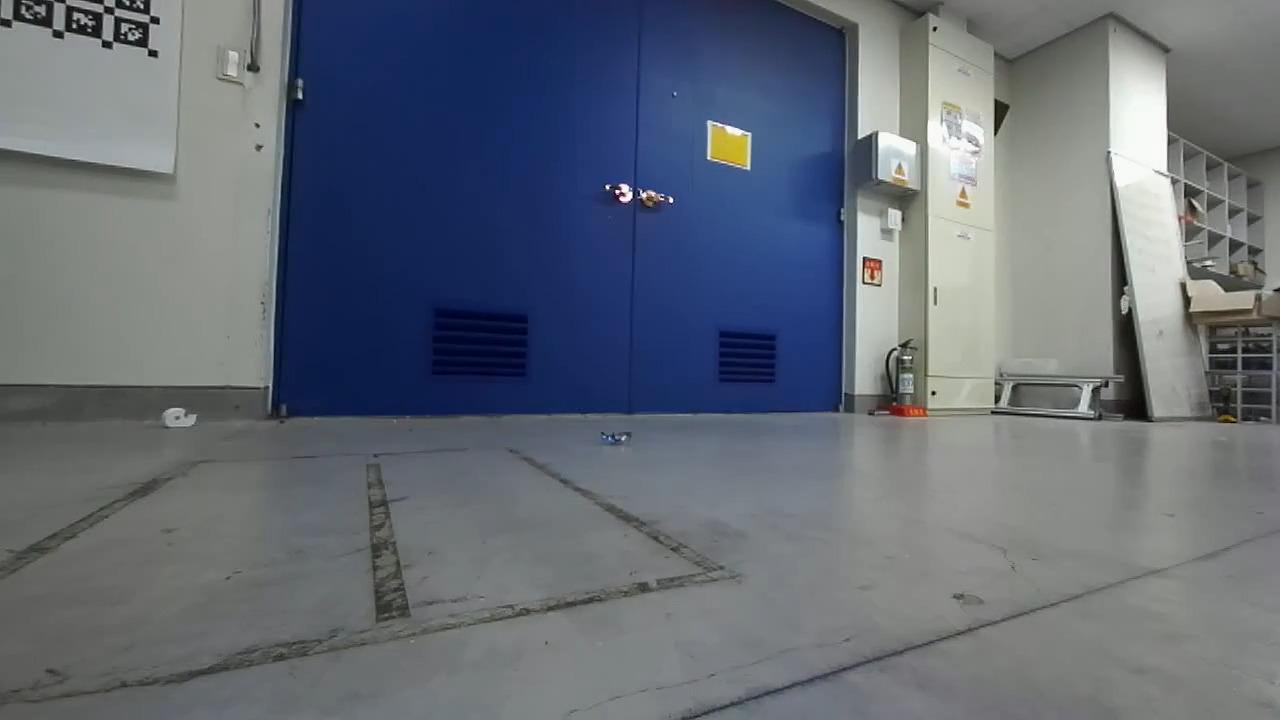crazyflie: (589, 424, 644, 453)
